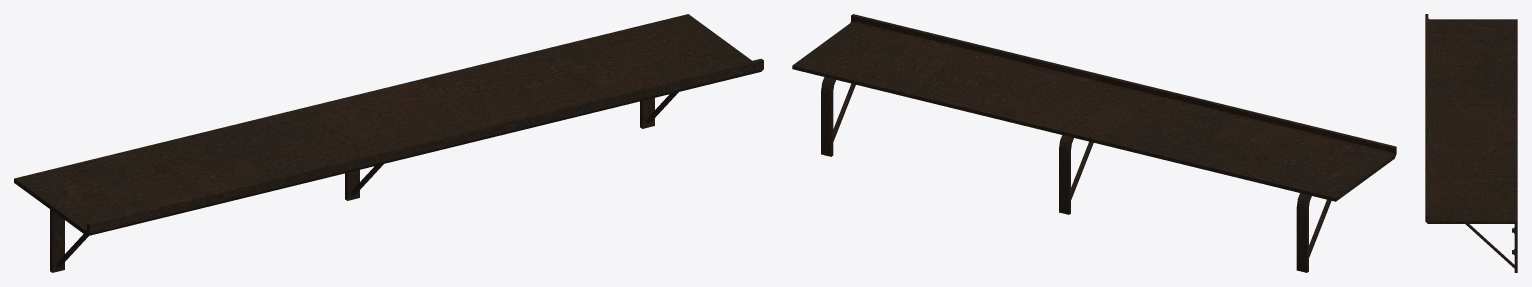
The model's file is hanging_shelf_mx_1_1.glb.
3 views of the same model, side by side, from view 1: azimuth 30°, elevation 25°; view 2: azimuth 150°, elevation 25°; view 3: azimuth 270°, elevation 25° (orthographic). The views are drawn at different scales.
Parts seen in each view (by area): view 1: hanging_shelf_mx_1_1; view 2: hanging_shelf_mx_1_1; view 3: hanging_shelf_mx_1_1.
Boxes of the visible parts, x1,y1,x2,y2 form: hanging_shelf_mx_1_1: (14, 14, 763, 272); hanging_shelf_mx_1_1: (792, 14, 1396, 272); hanging_shelf_mx_1_1: (1425, 14, 1517, 272).
Size of the model in its own units: 1.6 by 0.25 by 0.31.
Materials: 1 (1 with a texture image).
